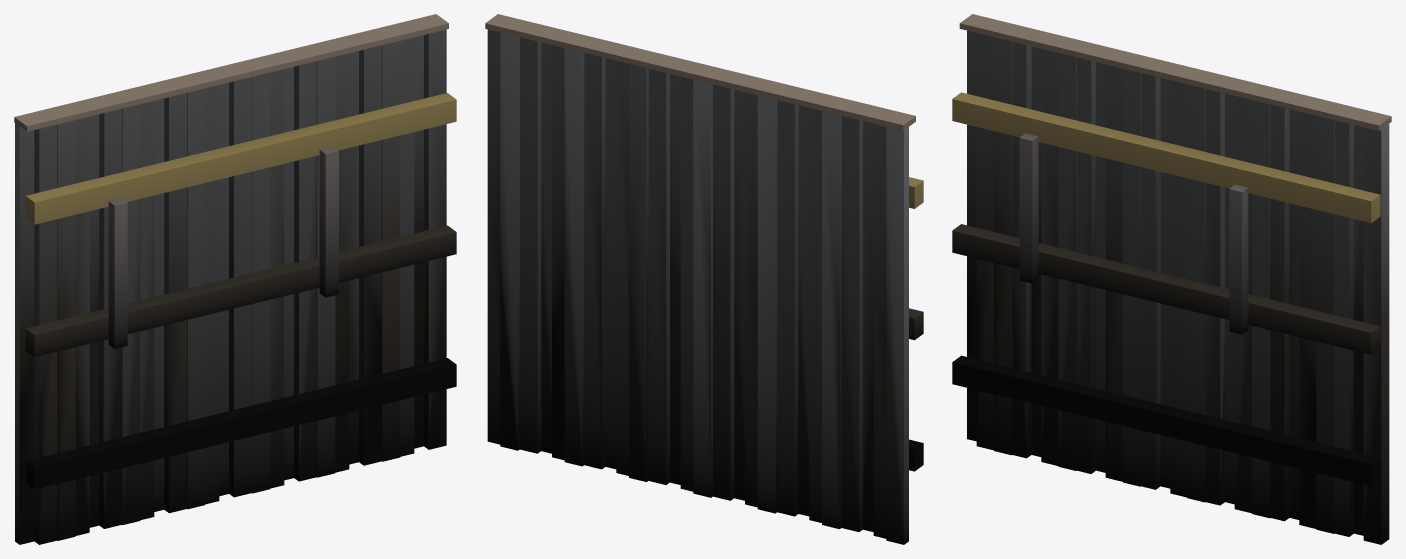
Rendered from pilewall.lod.glb.
3 views of the same model, side by side, from view 1: azimuth 30°, elevation 25°; view 2: azimuth 150°, elevation 25°; view 3: azimuth 330°, elevation 25° (orthographic).
Visible parts, largest first — view 1: pilewall; view 2: pilewall; view 3: pilewall.
Part boxes in pixels (x1=…): pilewall: x1=14, y1=14, x2=456, y2=544; pilewall: x1=485, y1=14, x2=923, y2=544; pilewall: x1=952, y1=14, x2=1391, y2=544.
Size of the model in its own units: 8 by 7.68 by 0.87.
